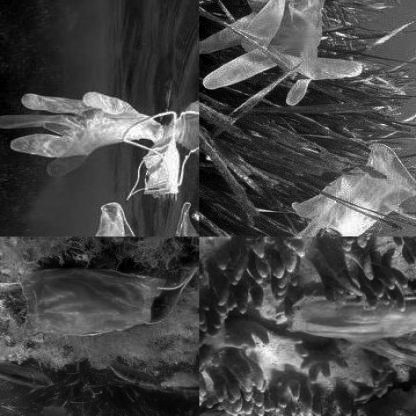Mask: (268, 278, 415, 412), (0, 266, 198, 341), (118, 108, 183, 198)
glove: (199, 0, 363, 111), (279, 136, 415, 236), (0, 85, 144, 175), (0, 192, 175, 235), (200, 401, 310, 415)
